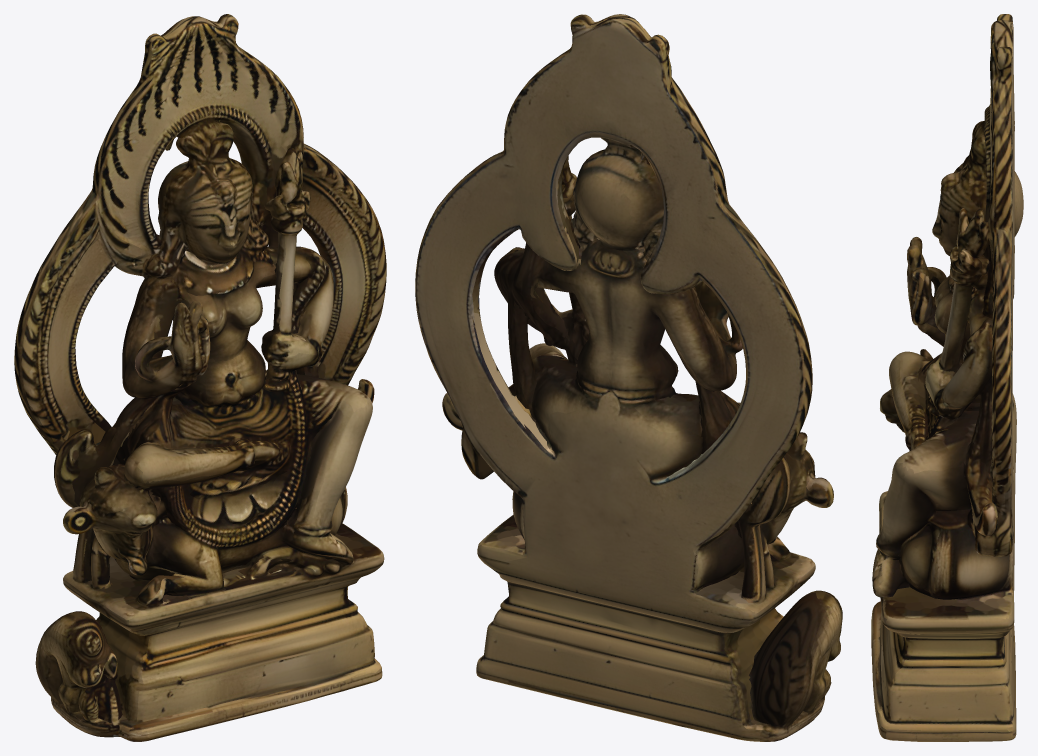
3 views of the same model, side by side, from view 1: azimuth 30°, elevation 25°; view 2: azimuth 150°, elevation 25°; view 3: azimuth 270°, elevation 25° (orthographic). The views are drawn at different scales.
Parts seen in each view (by area): view 1: textured_mesh; view 2: textured_mesh; view 3: textured_mesh.
Part boxes in pixels (x1=…): textured_mesh: x1=14, y1=14, x2=386, y2=741; textured_mesh: x1=415, y1=14, x2=842, y2=741; textured_mesh: x1=871, y1=14, x2=1023, y2=741.
Size of the model in its own units: 1.18 by 1.99 by 0.4198.
1 material, 1 textured.
